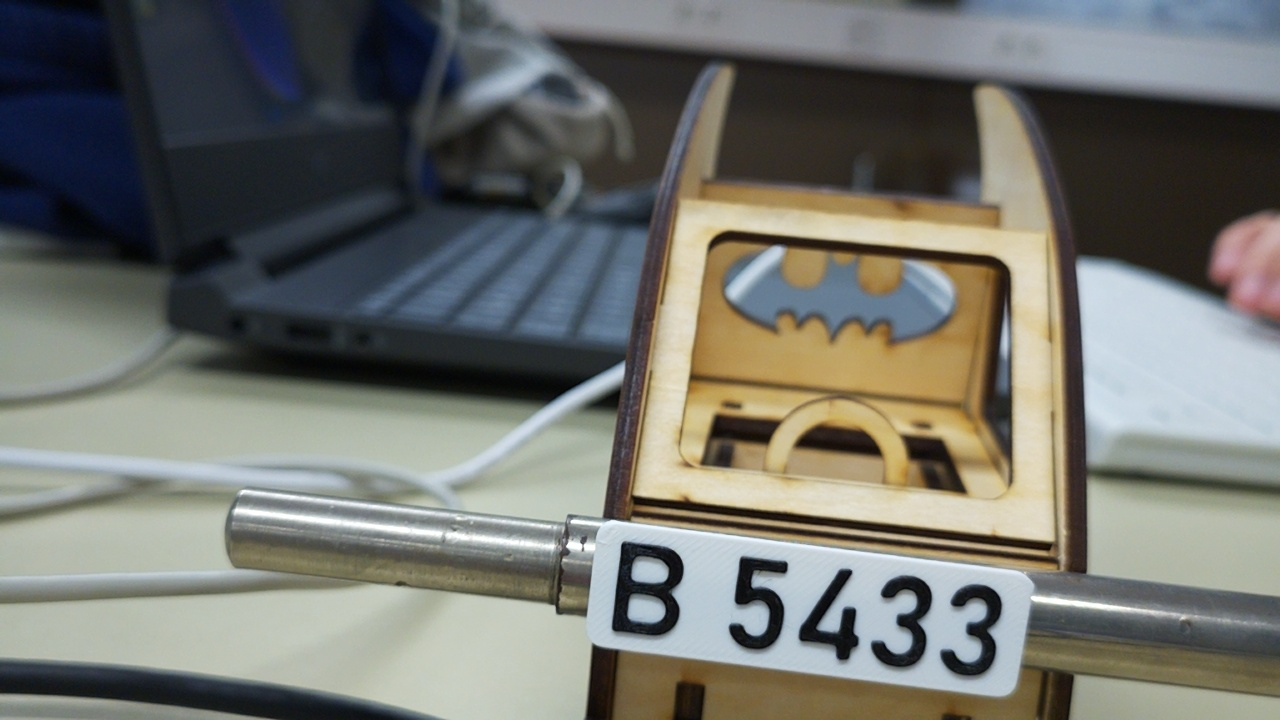license_plate: (583, 513, 1036, 702)
